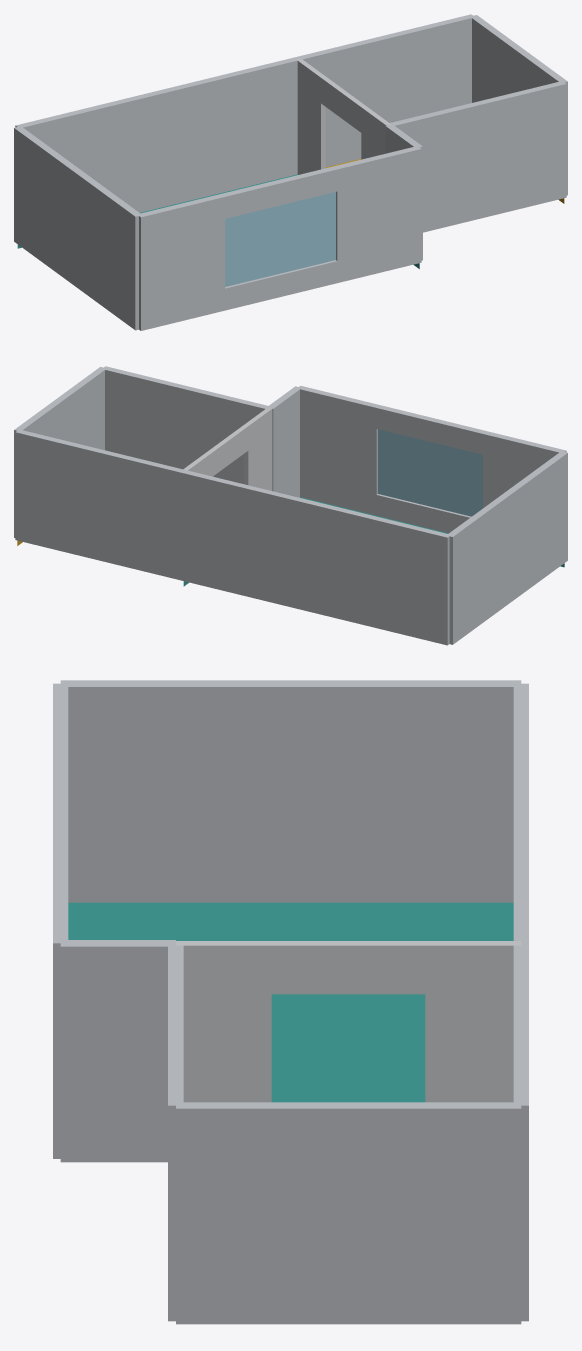
Rendered from dollhouse-v1.glb.
The picture shows the model from 3 angles, top to bottom: view 1: azimuth 30°, elevation 25°; view 2: azimuth 150°, elevation 25°; view 3: azimuth 270°, elevation 25°; orthographic projection. The views are drawn at different scales.
Parts seen in each view (by area): view 1: wall__f0e2e427-1bc8-4c9f-95b6-427d12f681f1__0__floor__0, wall__0c5ce547-f56f-4da0-9dab-5d5543a8a5a6__0__floor__0, wall__8a88e0ce-092d-473e-adda-2a0fbae3f731__0__floor__0, wall__c16cbc09-2447-4adb-b26e-a8348dd413fb__0__floor__0, wall__5a983ade-cac4-4e3c-9354-f47d9d52b903__0__floor__0, wall__5a983ade-cac4-4e3c-9354-f47d9d52b903__4__floor__0, wall__5a983ade-cac4-4e3c-9354-f47d9d52b903__3__floor__0, wall__eeeeb83c-4136-425d-8dc9-f047331cc7a9__0__floor__0, wall__5a983ade-cac4-4e3c-9354-f47d9d52b903__2__floor__0, wall__903b7f8d-d5d2-4f67-9fc0-50a935bce307__0__floor__0, wall__5a983ade-cac4-4e3c-9354-f47d9d52b903__1__floor__0, wall__903b7f8d-d5d2-4f67-9fc0-50a935bce307__1__floor__0 (+2 smaller); view 2: wall__f0e2e427-1bc8-4c9f-95b6-427d12f681f1__0__floor__0, wall__c16cbc09-2447-4adb-b26e-a8348dd413fb__0__floor__0, wall__8a88e0ce-092d-473e-adda-2a0fbae3f731__0__floor__0, wall__0c5ce547-f56f-4da0-9dab-5d5543a8a5a6__0__floor__0, wall__5a983ade-cac4-4e3c-9354-f47d9d52b903__4__floor__0, wall__5a983ade-cac4-4e3c-9354-f47d9d52b903__3__floor__0, wall__eeeeb83c-4136-425d-8dc9-f047331cc7a9__0__floor__0, wall__5a983ade-cac4-4e3c-9354-f47d9d52b903__0__floor__0, wall__6f66fe05-cbfc-4d42-93b2-afdb7073e1b8__0__floor__0, wall__5a983ade-cac4-4e3c-9354-f47d9d52b903__2__floor__0, wall__903b7f8d-d5d2-4f67-9fc0-50a935bce307__2__floor__0, wall__5a983ade-cac4-4e3c-9354-f47d9d52b903__1__floor__0 (+1 smaller); view 3: wall__8a88e0ce-092d-473e-adda-2a0fbae3f731__0__floor__0, wall__eeeeb83c-4136-425d-8dc9-f047331cc7a9__0__floor__0, room__9ef68f6d-3e26-4b9f-b1ef-3741675c9a29__scene__43ff71a0-, wall__6f66fe05-cbfc-4d42-93b2-afdb7073e1b8__0__floor__0, wall__903b7f8d-d5d2-4f67-9fc0-50a935bce307__0__floor__0, wall__903b7f8d-d5d2-4f67-9fc0-50a935bce307__2__floor__0, wall__903b7f8d-d5d2-4f67-9fc0-50a935bce307__1__floor__0, wall__c16cbc09-2447-4adb-b26e-a8348dd413fb__0__floor__0, wall__0c5ce547-f56f-4da0-9dab-5d5543a8a5a6__0__floor__0, wall__f0e2e427-1bc8-4c9f-95b6-427d12f681f1__0__floor__0, wall__5a983ade-cac4-4e3c-9354-f47d9d52b903__4__floor__0, wall__5a983ade-cac4-4e3c-9354-f47d9d52b903__2__floor__0 (+1 smaller).
Part boxes in pixels (<box>): wall__f0e2e427-1bc8-4c9f-95b6-427d12f681f1__0__floor__0: <box>15,57,297,212</box>; wall__0c5ce547-f56f-4da0-9dab-5d5543a8a5a6__0__floor__0: <box>390,81,566,232</box>; wall__8a88e0ce-092d-473e-adda-2a0fbae3f731__0__floor__0: <box>14,126,139,330</box>; wall__c16cbc09-2447-4adb-b26e-a8348dd413fb__0__floor__0: <box>296,14,474,167</box>; wall__5a983ade-cac4-4e3c-9354-f47d9d52b903__0__floor__0: <box>137,194,225,330</box>; wall__5a983ade-cac4-4e3c-9354-f47d9d52b903__4__floor__0: <box>333,146,421,282</box>; wall__5a983ade-cac4-4e3c-9354-f47d9d52b903__3__floor__0: <box>225,192,335,286</box>; wall__eeeeb83c-4136-425d-8dc9-f047331cc7a9__0__floor__0: <box>470,15,567,195</box>; wall__5a983ade-cac4-4e3c-9354-f47d9d52b903__2__floor__0: <box>221,166,337,218</box>; wall__903b7f8d-d5d2-4f67-9fc0-50a935bce307__0__floor__0: <box>296,58,325,174</box>; wall__5a983ade-cac4-4e3c-9354-f47d9d52b903__1__floor__0: <box>225,260,337,310</box>; wall__903b7f8d-d5d2-4f67-9fc0-50a935bce307__1__floor__0: <box>321,76,365,132</box>; wall__f0e2e427-1bc8-4c9f-95b6-427d12f681f1__0__floor__0: <box>181,470,450,645</box>; wall__c16cbc09-2447-4adb-b26e-a8348dd413fb__0__floor__0: <box>15,429,184,580</box>; wall__8a88e0ce-092d-473e-adda-2a0fbae3f731__0__floor__0: <box>447,451,567,644</box>; wall__0c5ce547-f56f-4da0-9dab-5d5543a8a5a6__0__floor__0: <box>102,366,270,483</box>; wall__5a983ade-cac4-4e3c-9354-f47d9d52b903__4__floor__0: <box>297,385,379,515</box>; wall__5a983ade-cac4-4e3c-9354-f47d9d52b903__3__floor__0: <box>378,429,482,516</box>; wall__eeeeb83c-4136-425d-8dc9-f047331cc7a9__0__floor__0: <box>14,367,106,537</box>; wall__5a983ade-cac4-4e3c-9354-f47d9d52b903__0__floor__0: <box>483,431,566,507</box>; wall__6f66fe05-cbfc-4d42-93b2-afdb7073e1b8__0__floor__0: <box>269,386,301,497</box>; wall__5a983ade-cac4-4e3c-9354-f47d9d52b903__2__floor__0: <box>376,405,486,454</box>; wall__903b7f8d-d5d2-4f67-9fc0-50a935bce307__2__floor__0: <box>243,407,272,490</box>; wall__5a983ade-cac4-4e3c-9354-f47d9d52b903__1__floor__0: <box>376,494,471,533</box>; wall__8a88e0ce-092d-473e-adda-2a0fbae3f731__0__floor__0: <box>60,680,521,902</box>; wall__eeeeb83c-4136-425d-8dc9-f047331cc7a9__0__floor__0: <box>176,1102,521,1324</box>; room__9ef68f6d-3e26-4b9f-b1ef-3741675c9a29__scene__43ff71a0-: <box>68,902,513,1102</box>; wall__6f66fe05-cbfc-4d42-93b2-afdb7073e1b8__0__floor__0: <box>60,940,175,1162</box>; wall__903b7f8d-d5d2-4f67-9fc0-50a935bce307__0__floor__0: <box>425,941,521,1102</box>; wall__903b7f8d-d5d2-4f67-9fc0-50a935bce307__2__floor__0: <box>176,941,271,1102</box>; wall__903b7f8d-d5d2-4f67-9fc0-50a935bce307__1__floor__0: <box>271,941,425,994</box>; wall__c16cbc09-2447-4adb-b26e-a8348dd413fb__0__floor__0: <box>513,943,528,1321</box>; wall__0c5ce547-f56f-4da0-9dab-5d5543a8a5a6__0__floor__0: <box>168,943,183,1321</box>; wall__f0e2e427-1bc8-4c9f-95b6-427d12f681f1__0__floor__0: <box>513,683,528,943</box>; wall__5a983ade-cac4-4e3c-9354-f47d9d52b903__4__floor__0: <box>53,865,68,1158</box>; wall__5a983ade-cac4-4e3c-9354-f47d9d52b903__2__floor__0: <box>53,761,68,865</box>.
Bounding box in the file's own units: 13.2 × 3.32 × 6.2.
